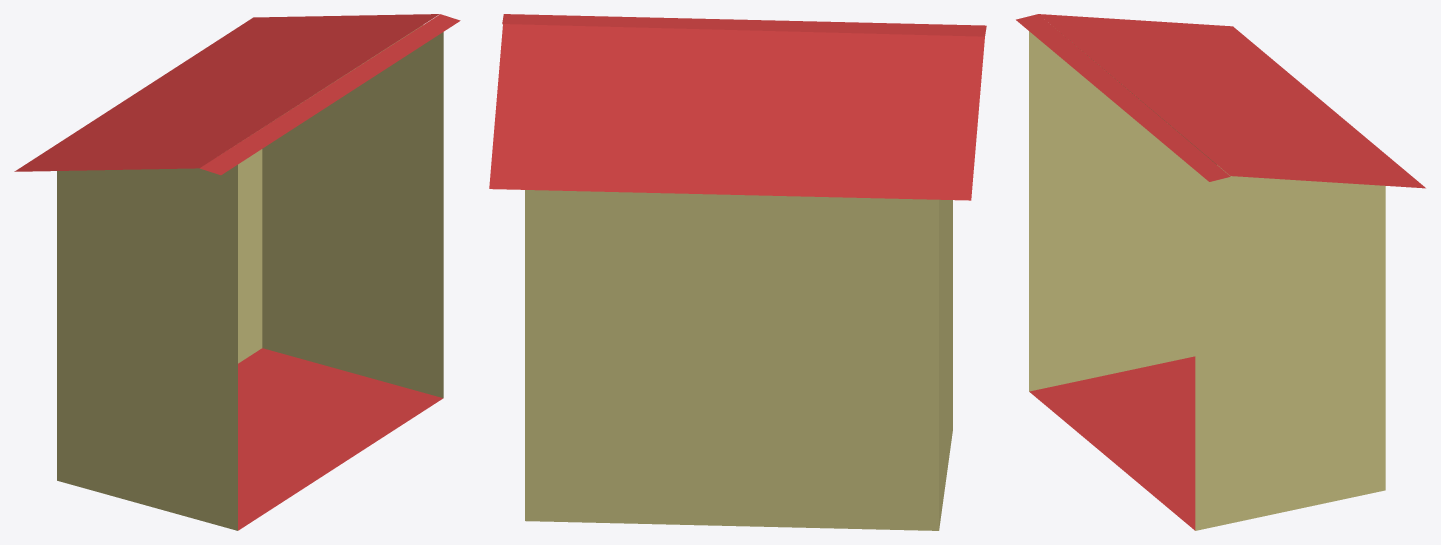
The picture shows the model from 3 angles, left to right: view 1: azimuth 30°, elevation 25°; view 2: azimuth 150°, elevation 25°; view 3: azimuth 270°, elevation 25°; orthographic projection. The views are drawn at different scales.
Bounding box in the file's own units: 12.19 × 10.14 × 9.85.
